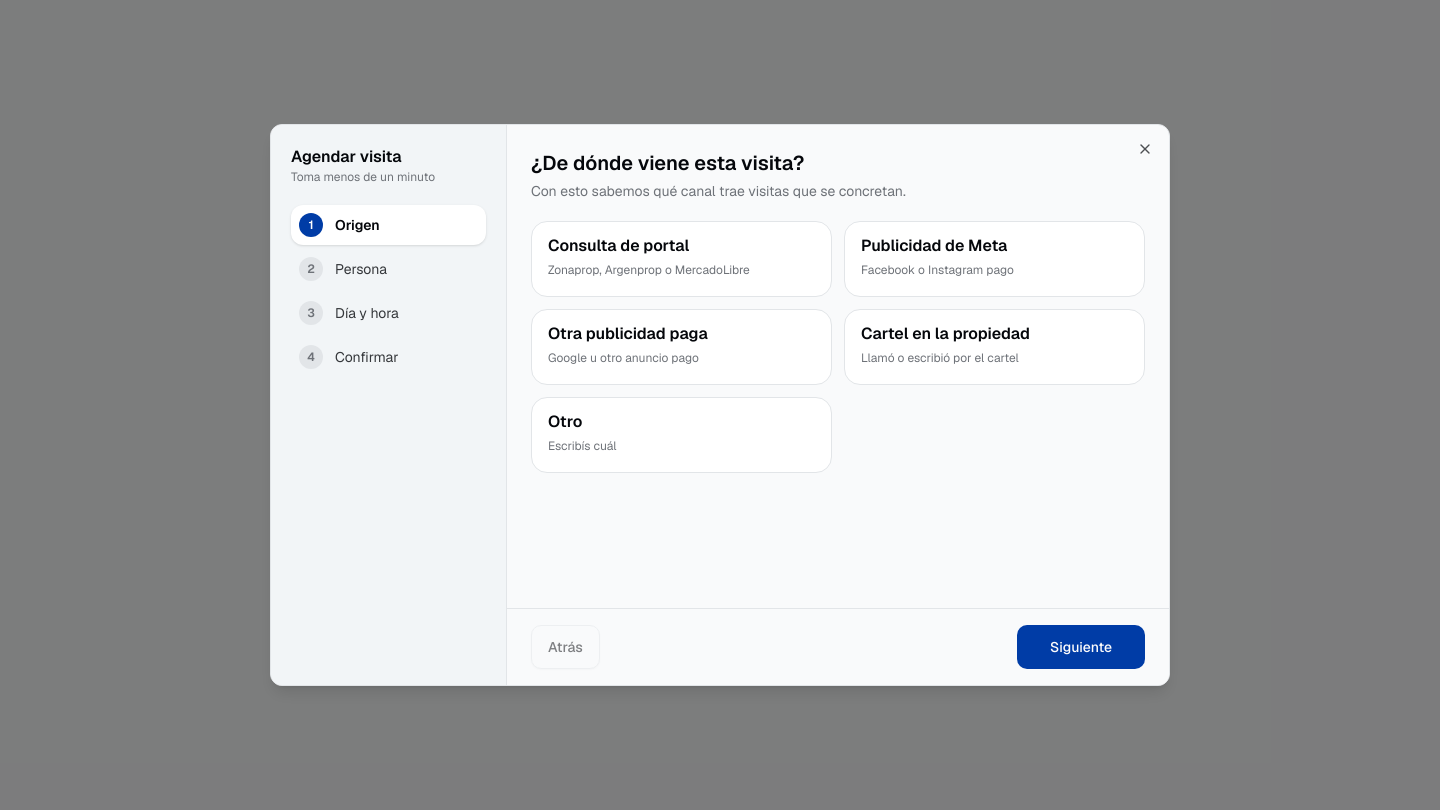
it: AgendarVisitaDialog › no deja avanzar sin elegir y explica por qué
The width and height of the screenshot is (1440, 810).
Check: the heading "¿De dónde viene esta visita?" is shown, box [531,150,804,176]
Step 1. Click the button "Siguiente" → {"x": 1081, "y": 647}, box [1017,625,1145,669]
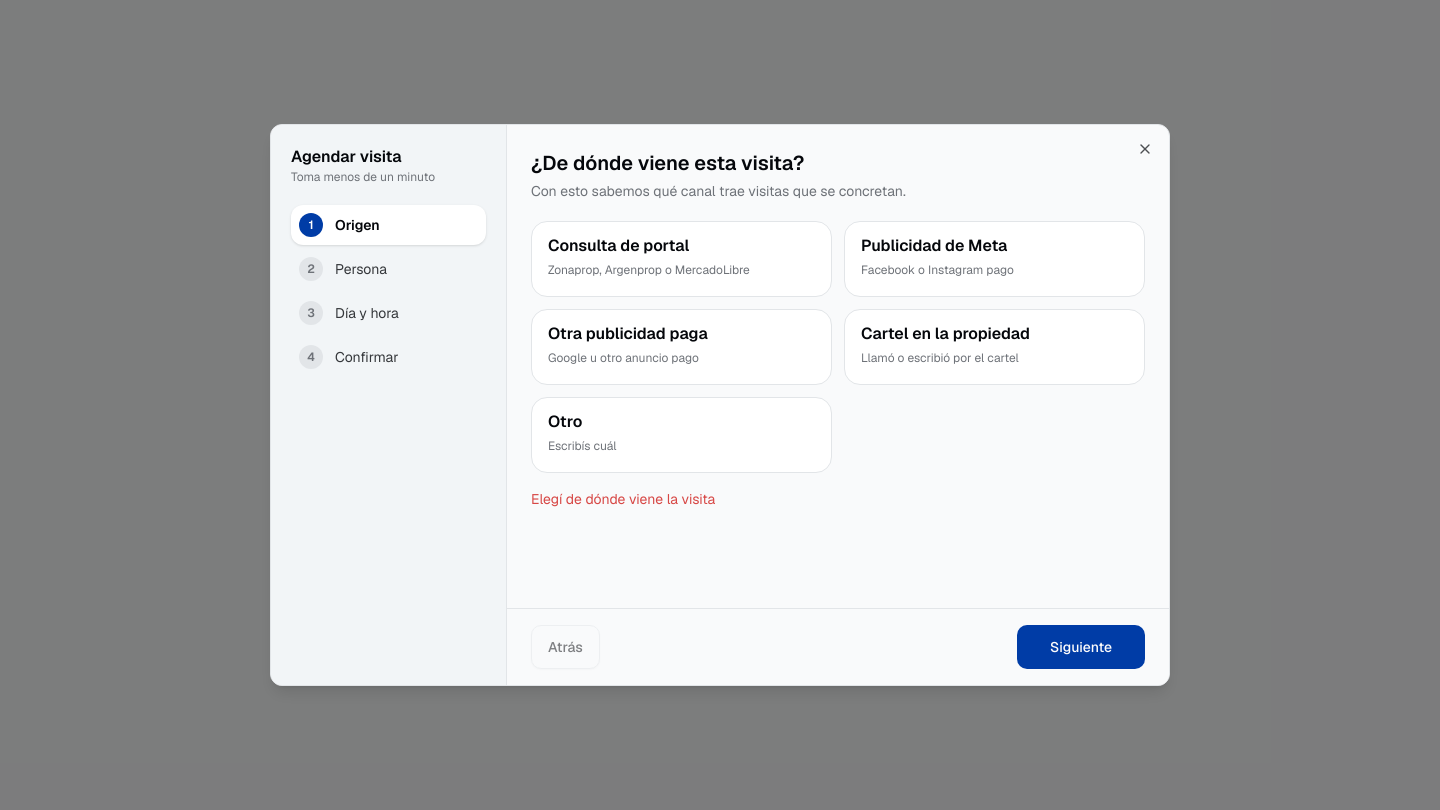
Check: the text "Elegí de dónde viene la visita" is shown, box [531,490,715,508]
